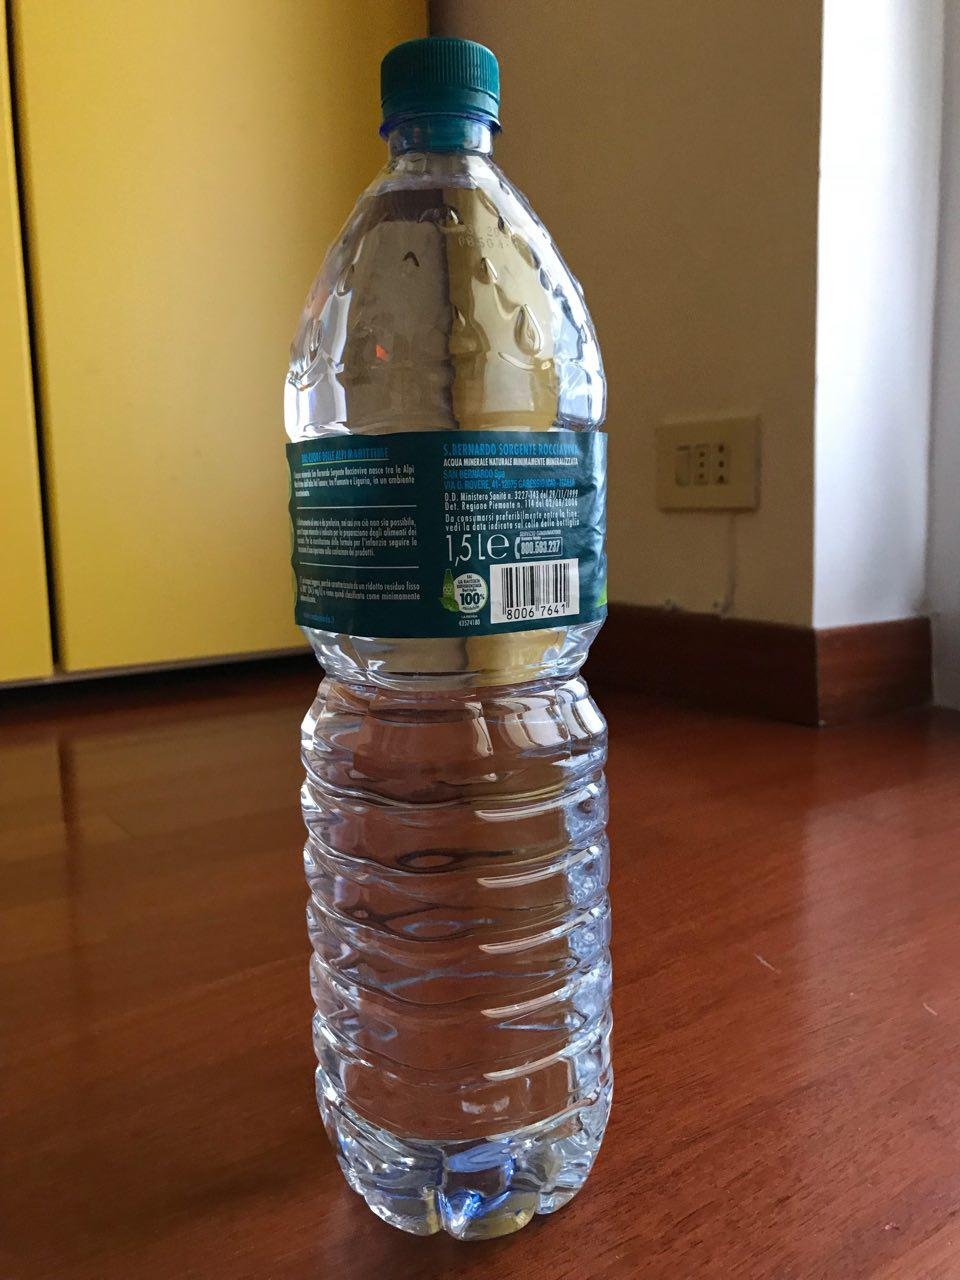san_bernardo: (278, 36, 617, 1244)
